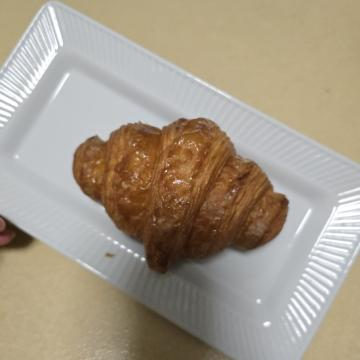croissant: (107, 62, 280, 292)
